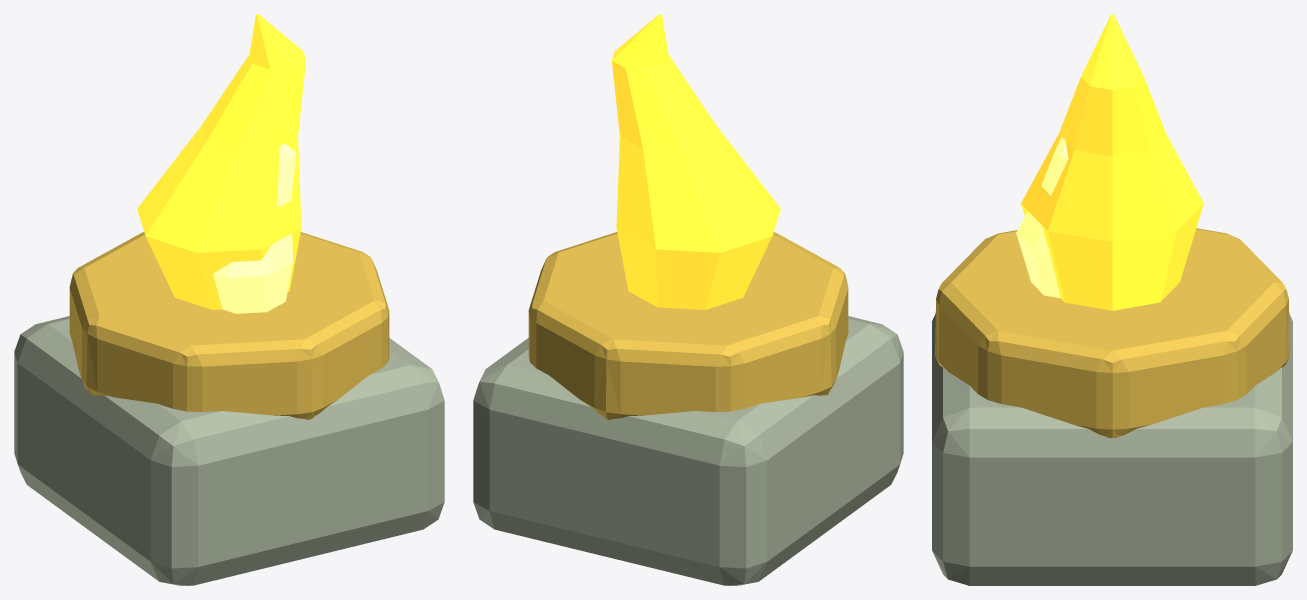
The model's file is Brazier.fbx.
The picture shows the model from 3 angles, left to right: view 1: azimuth 30°, elevation 25°; view 2: azimuth 150°, elevation 25°; view 3: azimuth 270°, elevation 25°; orthographic projection. The views are drawn at different scales.
Visible parts, largest first — view 1: Brazier.001; view 2: Brazier.001; view 3: Brazier.001.
Part boxes in pixels (x1,y1,x2,y2): Brazier.001: [14, 14, 444, 585]; Brazier.001: [473, 14, 903, 585]; Brazier.001: [932, 14, 1292, 585].
Bounding box in the file's own units: 48 × 77 × 48.
